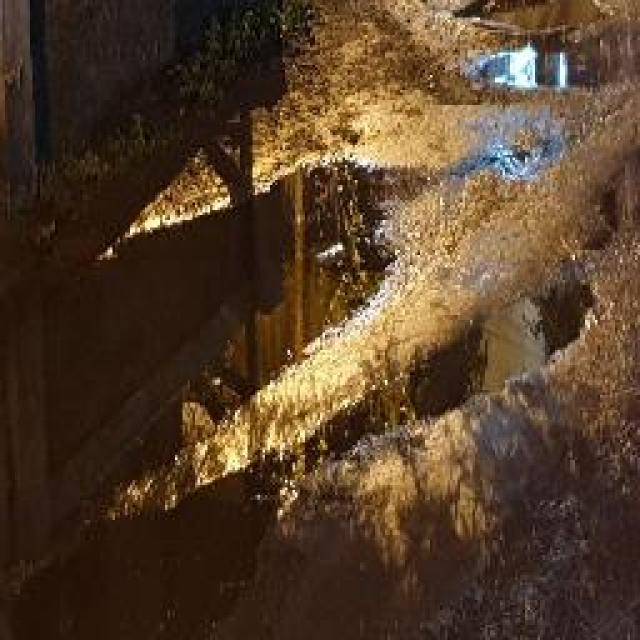waterlogging: (2, 202, 378, 640)
